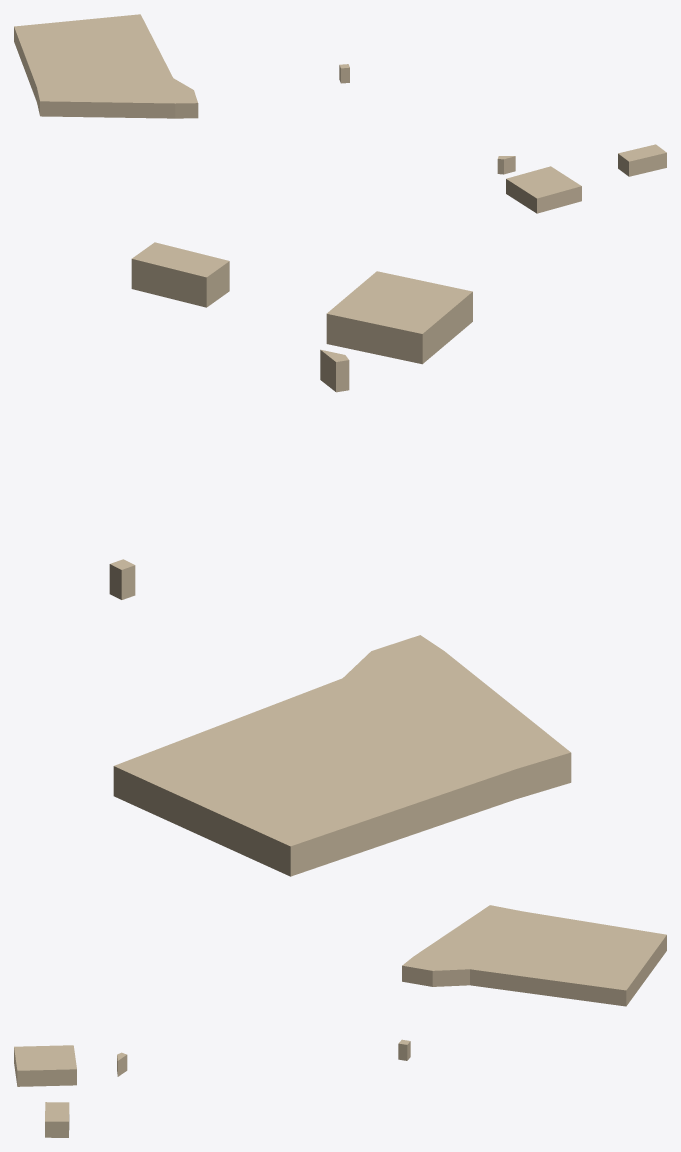
File: 4_5-estimated-coarse.glb
3 renders of one model, top to bottom at view 1: azimuth 30°, elevation 25°; view 2: azimuth 150°, elevation 25°; view 3: azimuth 270°, elevation 25°, orthographic. The views are drawn at different scales.
Bounding box in the file's own units: 347 × 12 × 442.
